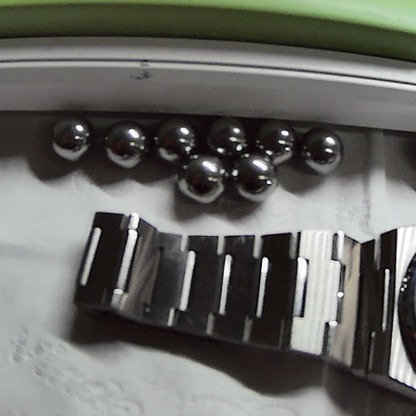ironball: (97, 113, 153, 178), (150, 111, 197, 167), (252, 109, 296, 165), (303, 124, 348, 173), (203, 106, 248, 155), (44, 110, 91, 155), (177, 160, 229, 198), (237, 155, 276, 195)
